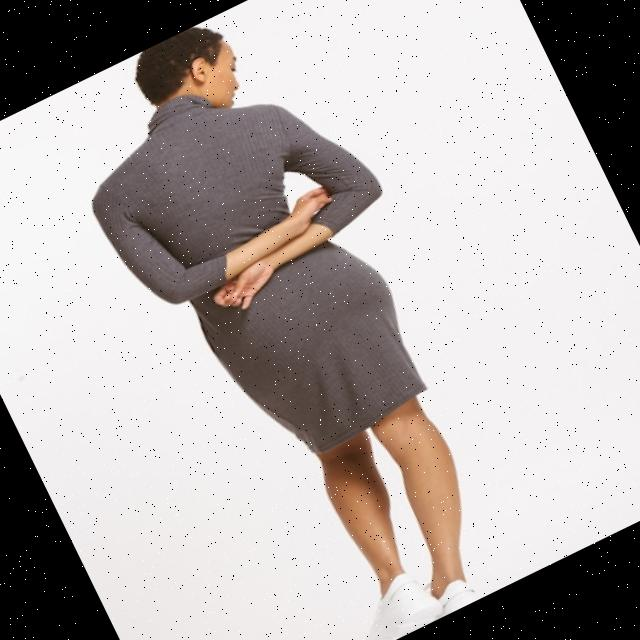Person: (40, 0, 561, 640)
